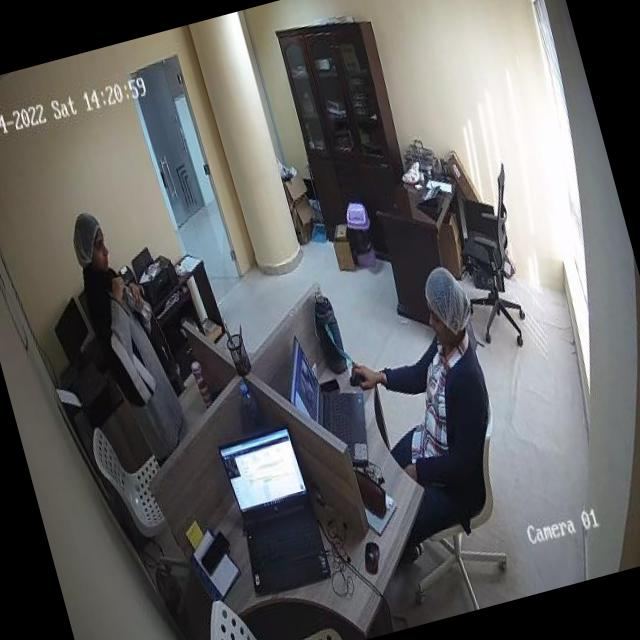hairnet: (423, 265, 475, 332), (64, 209, 102, 246)
